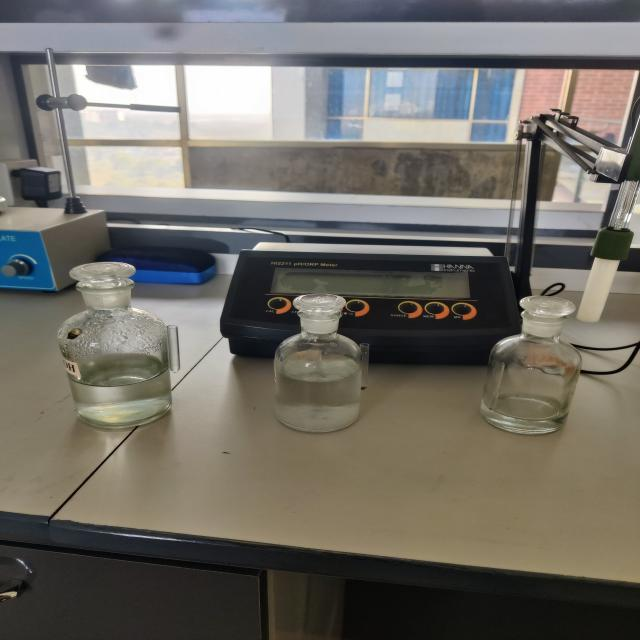Reagent_Bottle: (28, 245, 205, 455), (459, 263, 611, 460), (246, 262, 381, 448)
